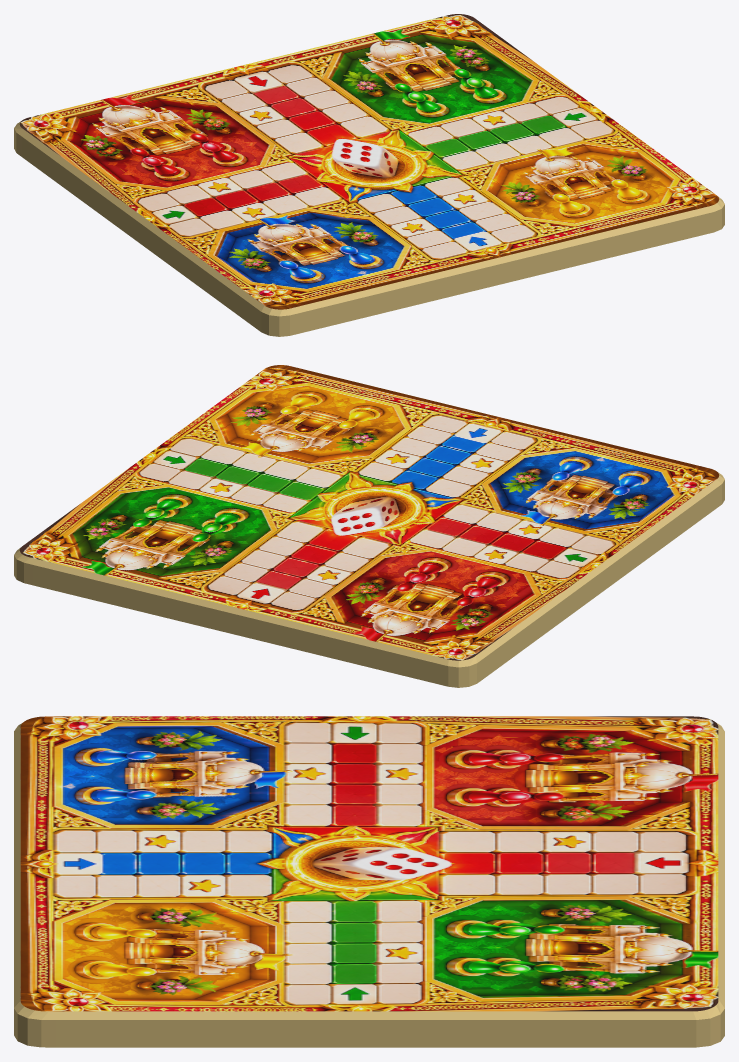
File: royal_ludo_board.glb
The picture shows the model from 3 angles, top to bottom: view 1: azimuth 30°, elevation 25°; view 2: azimuth 150°, elevation 25°; view 3: azimuth 270°, elevation 25°; orthographic projection. The views are drawn at different scales.
Visible parts, largest first — view 1: board_top, board_rim; view 2: board_top, board_rim; view 3: board_top, board_rim.
Part boxes in pixels (box(x1,y1,x2,y2)): board_top: box(19, 14, 719, 309); board_rim: box(14, 121, 724, 336); board_top: box(19, 365, 719, 660); board_rim: box(14, 472, 724, 687); board_top: box(20, 716, 718, 1011); board_rim: box(14, 723, 724, 1047).
Bounding box in the file's own units: 0.5 × 0.0259 × 0.5.
Materials: 1 (1 with a texture image).
